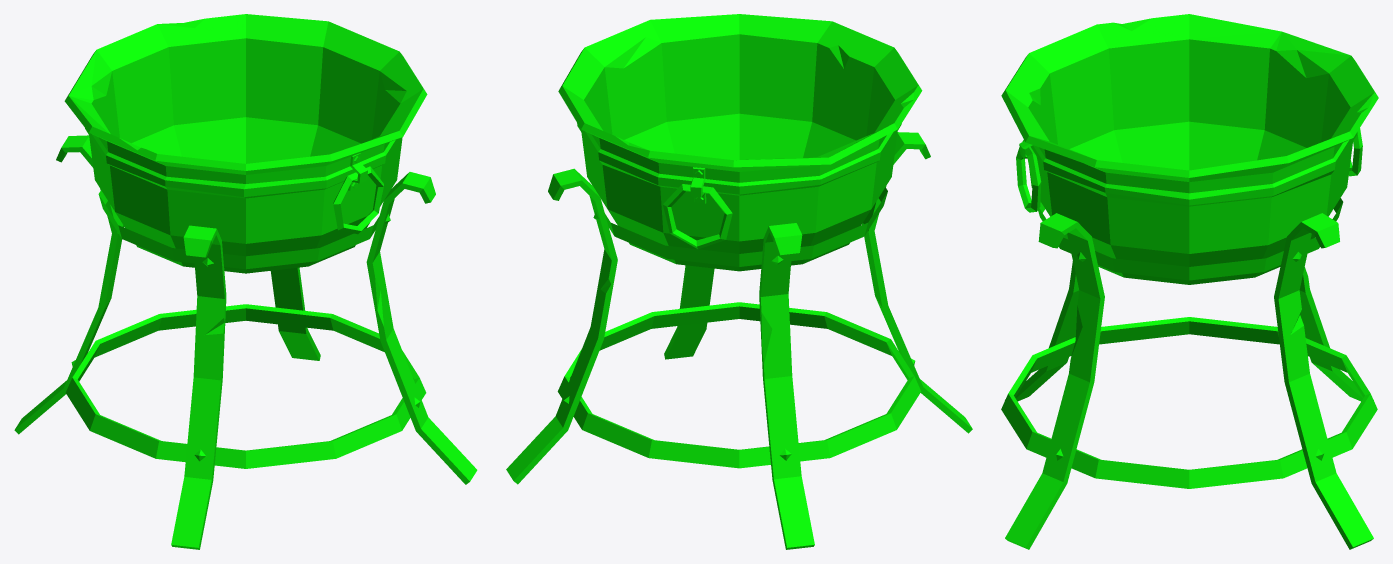
The model's file is SM_Fire_Bin_B_Fantasy.fbx.
3 renders of one model, left to right at view 1: azimuth 30°, elevation 25°; view 2: azimuth 150°, elevation 25°; view 3: azimuth 270°, elevation 25°, orthographic. The views are drawn at different scales.
Visible parts, largest first — view 1: fire-bin-b-fantasy; view 2: fire-bin-b-fantasy; view 3: fire-bin-b-fantasy.
Part boxes in pixels (<box>): fire-bin-b-fantasy: <box>14,14,477,549</box>; fire-bin-b-fantasy: <box>506,14,972,549</box>; fire-bin-b-fantasy: <box>1001,14,1378,549</box>.
Bounding box in the file's own units: 0.7553 × 0.8429 × 0.7531.
